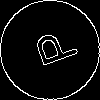P: (25, 25, 79, 72)
